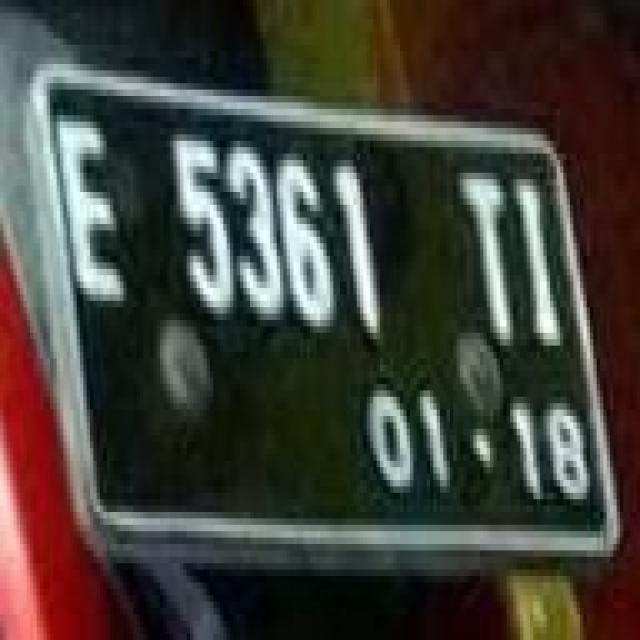1: (323, 156, 391, 350)
3: (222, 133, 291, 321)
5: (166, 134, 239, 314)
6: (273, 156, 343, 338)
E: (49, 116, 132, 309)
I: (506, 163, 572, 354)
T: (454, 166, 529, 352)
